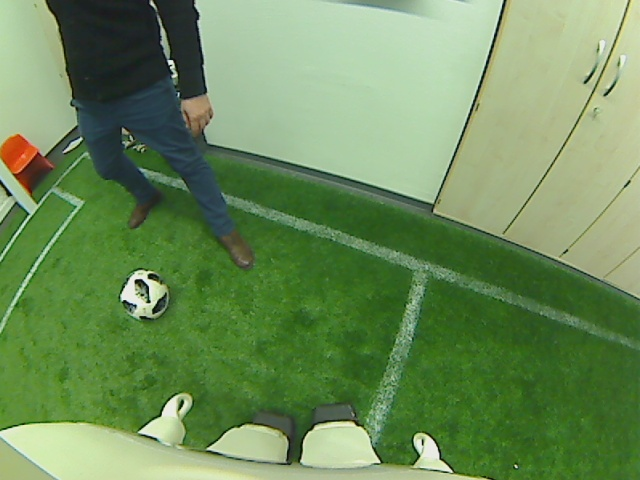ball: (117, 267, 169, 322)
